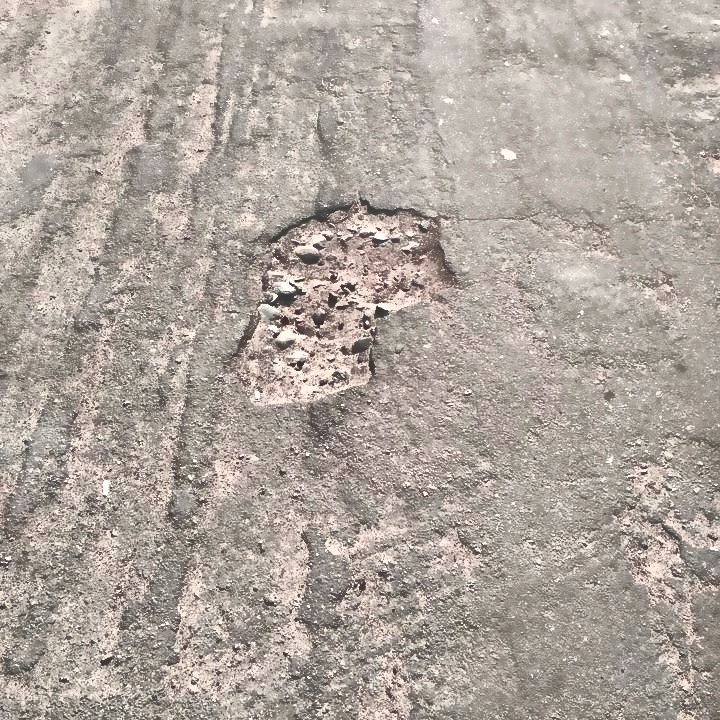pothole: (227, 194, 463, 413)
